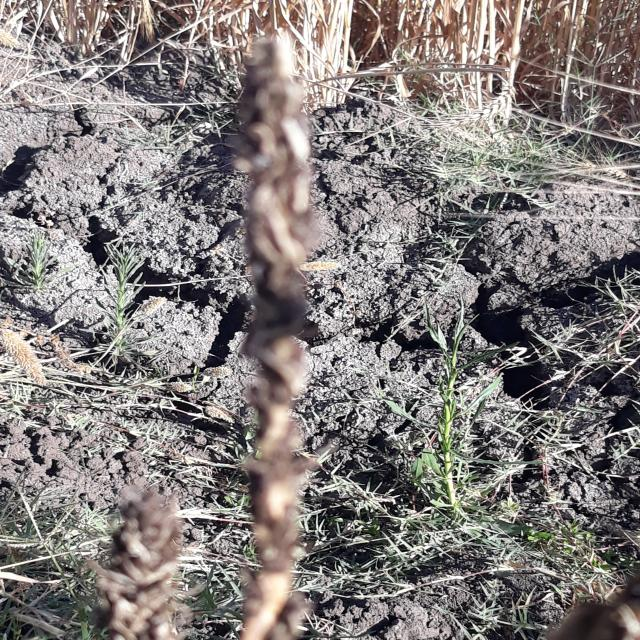loose_charred: (205, 34, 401, 628), (82, 480, 223, 640)
